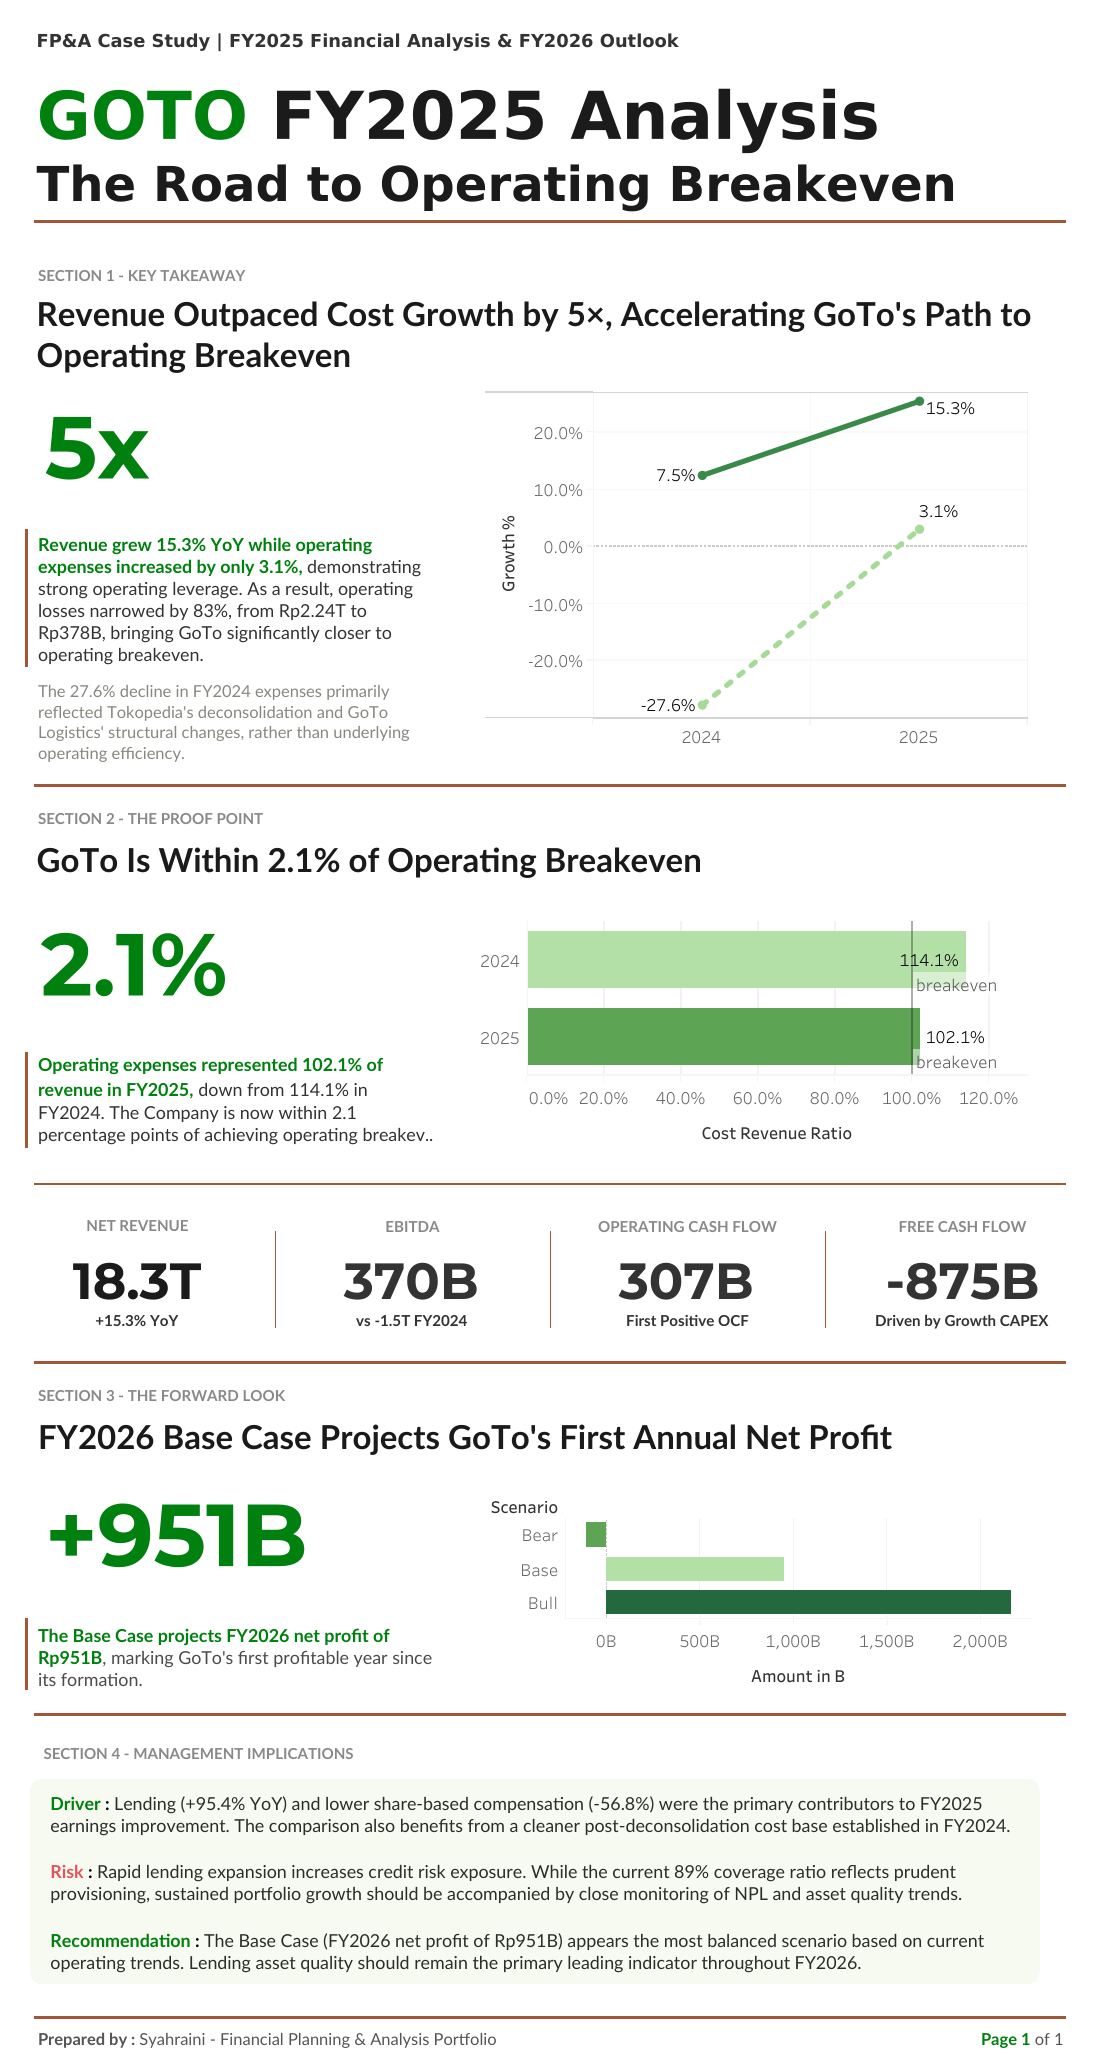

The page's visual inventory and layout, read from the dashboard file:
{"tool":"tableau","page":{"name":"Dashboard 1","canvas":[800,1500],"ordinal":0},"visuals":[{"type":"text","box":[20,13,755,170]},{"type":"legend","title":"2026F","param":"[federated.18hdgh41ugjm0j192lpq40q6sqsl].[none:Scenario:nk]","box":[25,175,750,2]},{"type":"text","box":[25,200,400,30]},{"type":"text","box":[20,218,755,77]},{"type":"worksheet","title":"Revenue Cost Growth","mark":"Line","rows":["Calculation_0014171125182496","Calculation_0014171125448737"],"cols":["Year"],"box":[315,285,435,230]},{"type":"text","box":[30,301,250,70]},{"type":"text","box":[25,387,250,82]},{"type":"text","box":[25,472,250,50]},{"type":"text","box":[25,575,400,30]},{"type":"text","box":[20,595,755,46]},{"type":"text","box":[27,660,250,62]},{"type":"worksheet","title":"BEP","mark":"Bar","rows":["Year"],"cols":["Calculation_0014171151101998"],"box":[315,662,435,177]},{"type":"text","box":[25,755,250,80]},{"type":"worksheet","title":"Net Revenue","mark":"Automatic","box":[0,859,200,100]},{"type":"worksheet","title":"EBITDA","mark":"Automatic","box":[200,859,200,100]},{"type":"worksheet","title":"OCF","mark":"Automatic","box":[400,859,200,100]},{"type":"worksheet","title":"FCF","mark":"Automatic","box":[600,859,200,100]},{"type":"text","box":[0,875,200,32]},{"type":"text","box":[200,876,200,32]},{"type":"text","box":[400,876,200,32]},{"type":"text","box":[600,876,200,32]},{"type":"text","box":[0,945,200,30]},{"type":"text","box":[200,945,200,30]},{"type":"text","box":[400,945,200,30]},{"type":"text","box":[600,945,200,30]},{"type":"text","box":[25,1015,400,30]},{"type":"text","box":[21,1035,755,46]},{"type":"text","box":[30,1105,250,62]},{"type":"worksheet","title":"2026F","mark":"Bar","rows":["Scenario"],"cols":["Amount in T (copy)_0014309985673278"],"box":[315,1108,435,140]},{"type":"text","box":[25,1190,250,60]},{"type":"text","box":[29,1291,400,30]},{"type":"text","box":[22,1324,734,149]}]}

Visuals, with their boxes in screenshot pixels (x1, y1, x2, y2), scaled from the page's 800x1500 canvas onto the 1099x2061 screenshot:
text: {"x1": 27, "y1": 18, "x2": 1065, "y2": 251}
"2026F" legend: {"x1": 34, "y1": 240, "x2": 1065, "y2": 243}
text: {"x1": 34, "y1": 275, "x2": 584, "y2": 316}
text: {"x1": 27, "y1": 300, "x2": 1065, "y2": 405}
"Revenue Cost Growth" worksheet (Line marks): {"x1": 433, "y1": 392, "x2": 1030, "y2": 708}
text: {"x1": 41, "y1": 414, "x2": 385, "y2": 510}
text: {"x1": 34, "y1": 532, "x2": 378, "y2": 644}
text: {"x1": 34, "y1": 649, "x2": 378, "y2": 717}
text: {"x1": 34, "y1": 790, "x2": 584, "y2": 831}
text: {"x1": 27, "y1": 818, "x2": 1065, "y2": 881}
text: {"x1": 37, "y1": 907, "x2": 381, "y2": 992}
"BEP" worksheet (Bar marks): {"x1": 433, "y1": 910, "x2": 1030, "y2": 1153}
text: {"x1": 34, "y1": 1037, "x2": 378, "y2": 1147}
"Net Revenue" worksheet: {"x1": 0, "y1": 1180, "x2": 275, "y2": 1318}
"EBITDA" worksheet: {"x1": 275, "y1": 1180, "x2": 550, "y2": 1318}
"OCF" worksheet: {"x1": 550, "y1": 1180, "x2": 824, "y2": 1318}
"FCF" worksheet: {"x1": 824, "y1": 1180, "x2": 1098, "y2": 1318}
text: {"x1": 0, "y1": 1202, "x2": 275, "y2": 1246}
text: {"x1": 275, "y1": 1204, "x2": 550, "y2": 1248}
text: {"x1": 550, "y1": 1204, "x2": 824, "y2": 1248}
text: {"x1": 824, "y1": 1204, "x2": 1098, "y2": 1248}
text: {"x1": 0, "y1": 1298, "x2": 275, "y2": 1340}
text: {"x1": 275, "y1": 1298, "x2": 550, "y2": 1340}
text: {"x1": 550, "y1": 1298, "x2": 824, "y2": 1340}
text: {"x1": 824, "y1": 1298, "x2": 1098, "y2": 1340}
text: {"x1": 34, "y1": 1395, "x2": 584, "y2": 1436}
text: {"x1": 29, "y1": 1422, "x2": 1066, "y2": 1485}
text: {"x1": 41, "y1": 1518, "x2": 385, "y2": 1603}
"2026F" worksheet (Bar marks): {"x1": 433, "y1": 1522, "x2": 1030, "y2": 1715}
text: {"x1": 34, "y1": 1635, "x2": 378, "y2": 1718}
text: {"x1": 40, "y1": 1774, "x2": 589, "y2": 1815}
text: {"x1": 30, "y1": 1819, "x2": 1039, "y2": 2024}
